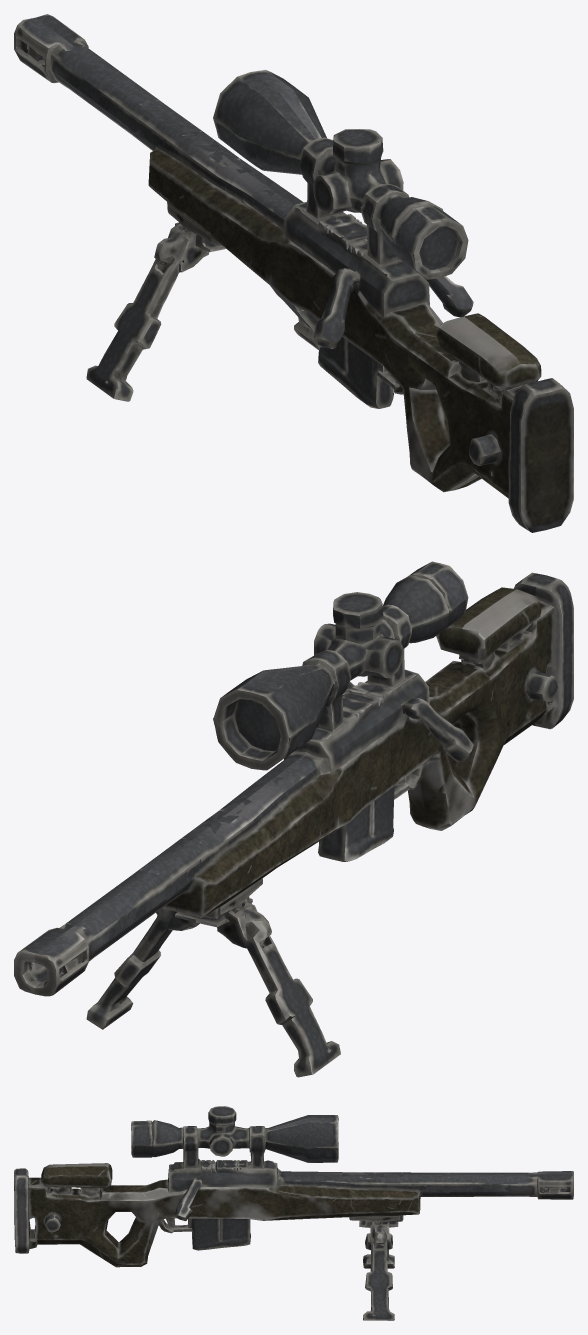
Rendered from marksman.glb.
3 views of the same model, one above another, from view 1: azimuth 30°, elevation 25°; view 2: azimuth 150°, elevation 25°; view 3: azimuth 270°, elevation 25° (orthographic). The views are drawn at different scales.
Parts seen in each view (by area): view 1: marksman_world; view 2: marksman_world; view 3: marksman_world.
Part boxes in pixels (bbox=[...]): marksman_world: bbox=[14, 14, 573, 532]; marksman_world: bbox=[14, 561, 573, 1077]; marksman_world: bbox=[14, 1106, 573, 1320].
Bounding box in the file's own units: 0.2818 × 0.3983 × 1.1.
Materials: 1 (1 with a texture image).
